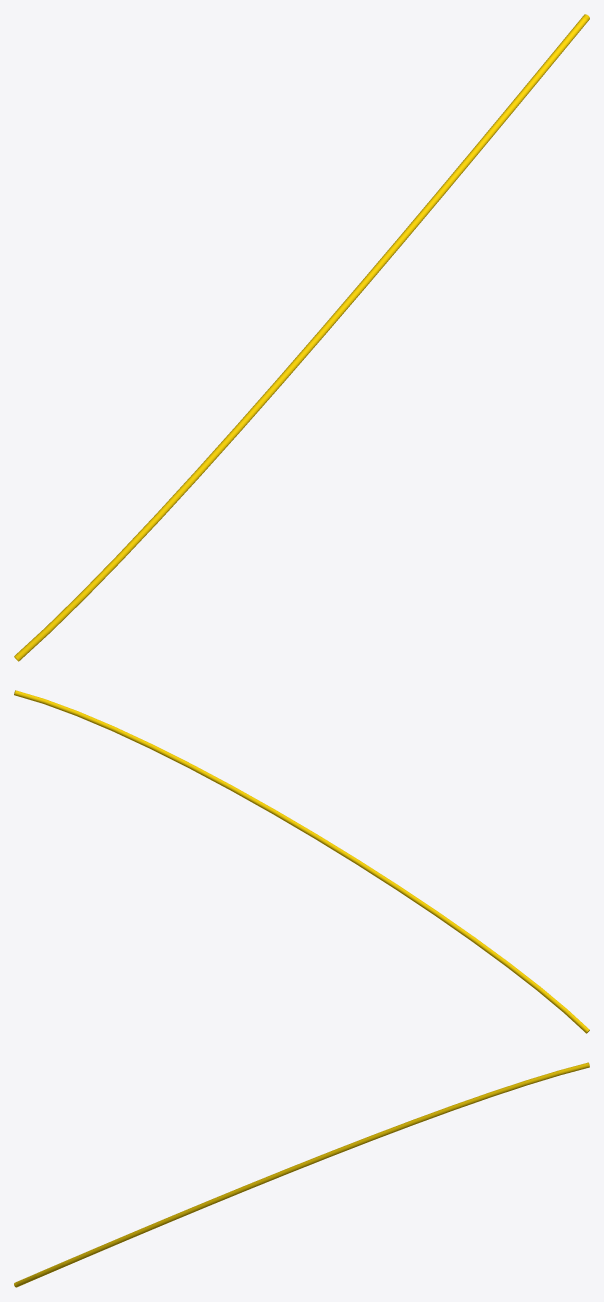
Rendered from Event_421364160_track_25.fbx.
The picture shows the model from 3 angles, top to bottom: view 1: azimuth 30°, elevation 25°; view 2: azimuth 150°, elevation 25°; view 3: azimuth 330°, elevation 25°; orthographic projection. The views are drawn at different scales.
Visible parts, largest first — view 1: Model; view 2: Model; view 3: Model.
Boxes of the visible parts, bbox=[...] form: Model: bbox=[14, 14, 589, 661]; Model: bbox=[14, 690, 589, 1033]; Model: bbox=[14, 1062, 589, 1287].
Size of the model in its own units: 4.37 by 2.4 by 1.3.
